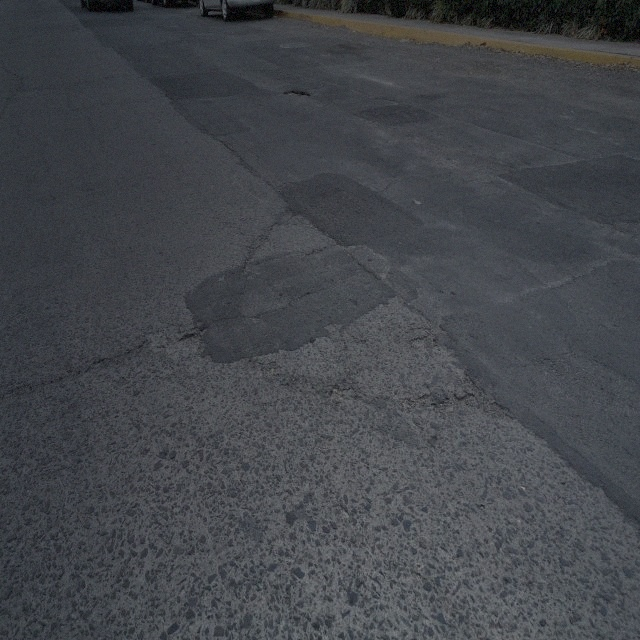pothole: (448, 369, 507, 422), (147, 326, 208, 358), (89, 346, 128, 375), (409, 321, 448, 345), (402, 388, 436, 412), (329, 386, 344, 405), (283, 88, 310, 97)
